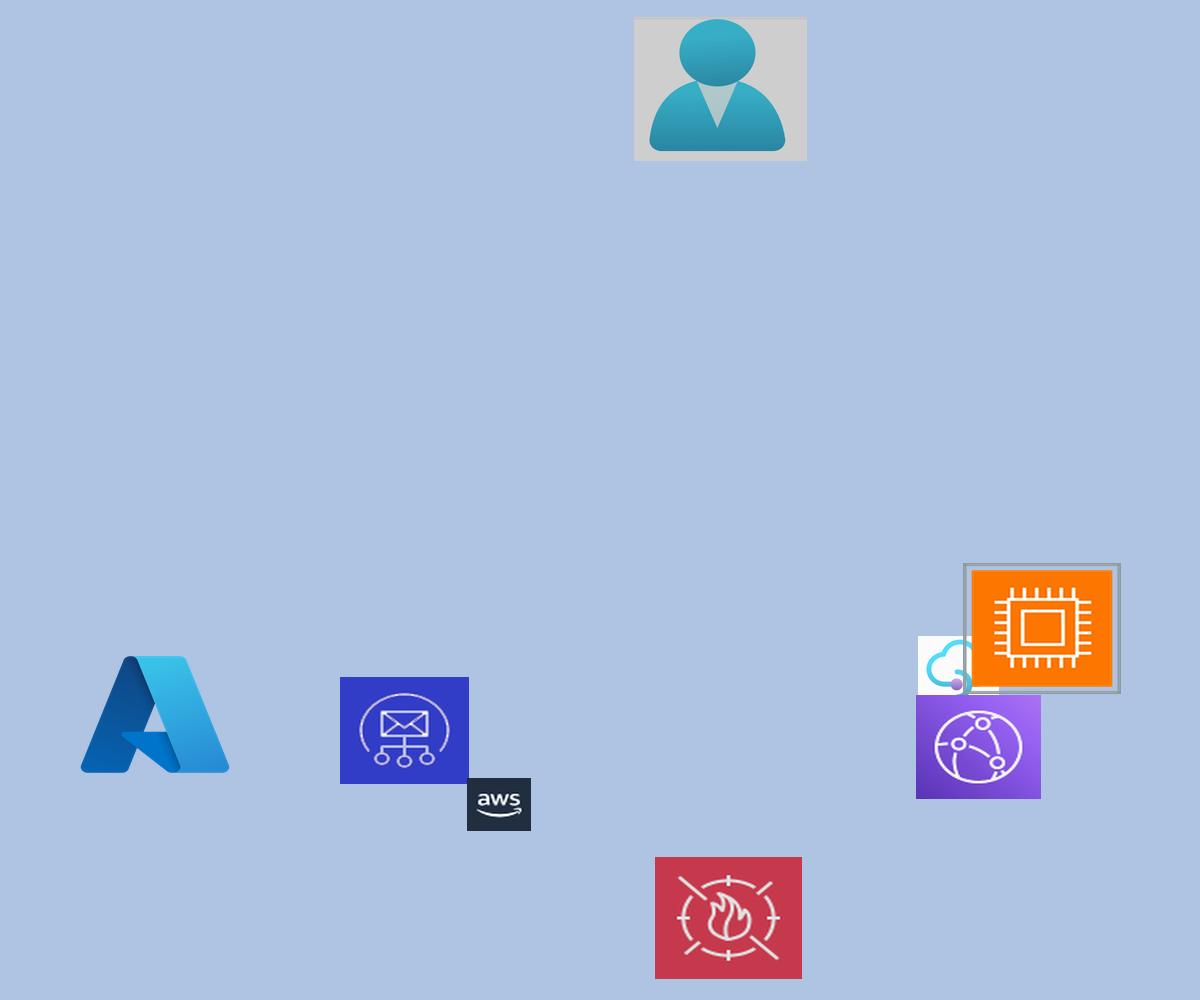AWS-Category_Compute: (963, 563, 1121, 694)
AWS-Cloud-logo: (467, 778, 531, 831)
AWS-CloudFront: (916, 695, 1041, 799)
AWS-Simple-Email-Service: (340, 677, 469, 784)
AWS-WAF: (655, 857, 802, 979)
Azure_api_gateway: (918, 636, 999, 704)
Azure_services: (74, 647, 236, 782)
Azure_users: (634, 17, 807, 161)
